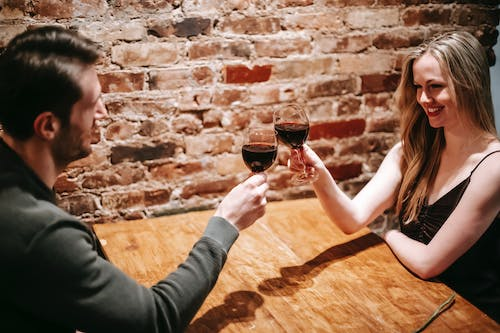alcohol: (272, 103, 320, 187), (240, 126, 278, 173)
